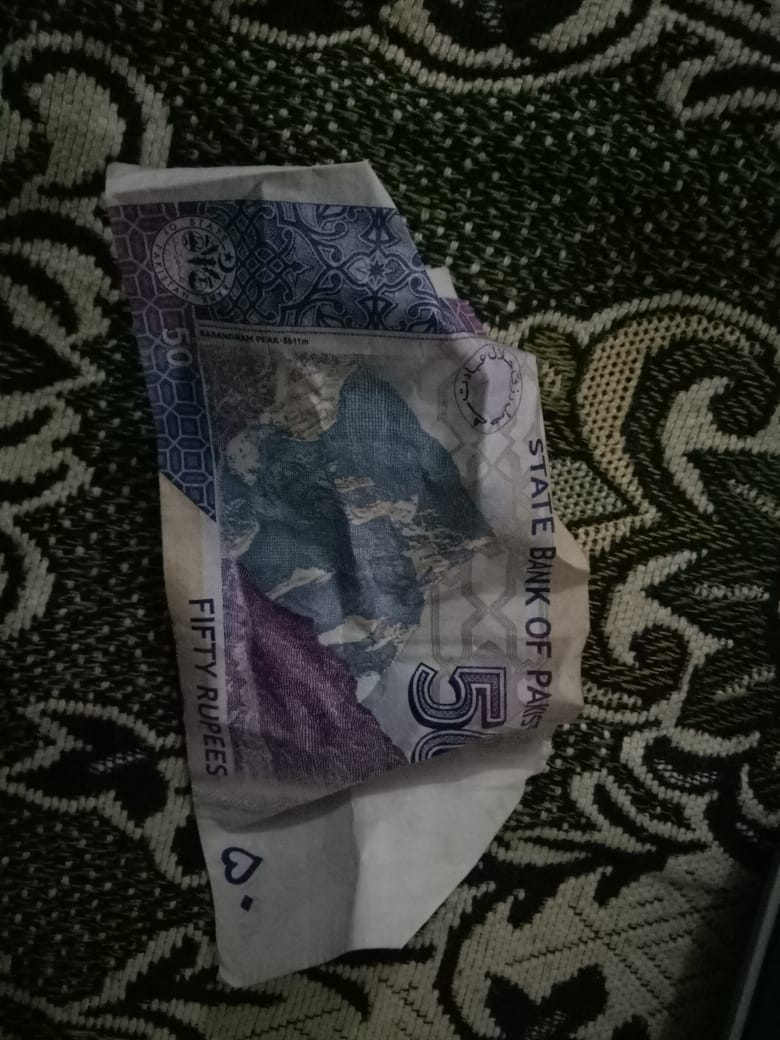50 rupee: (82, 142, 596, 1016)
